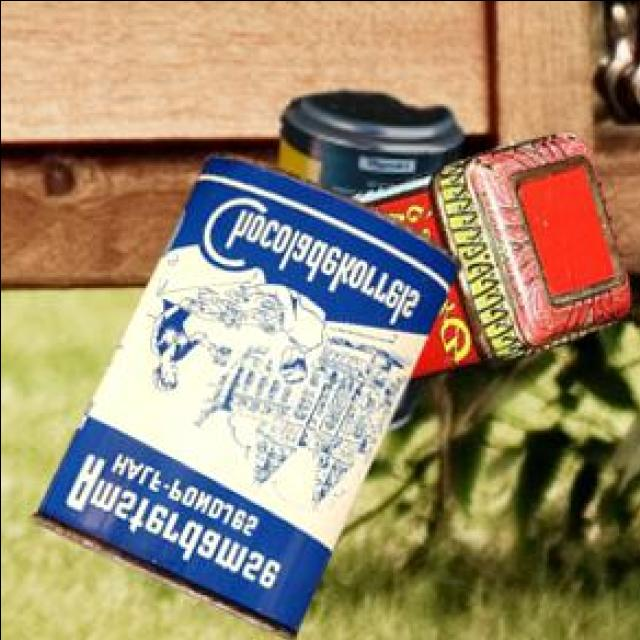logam: (34, 148, 464, 637), (350, 128, 632, 378), (282, 89, 466, 426)
